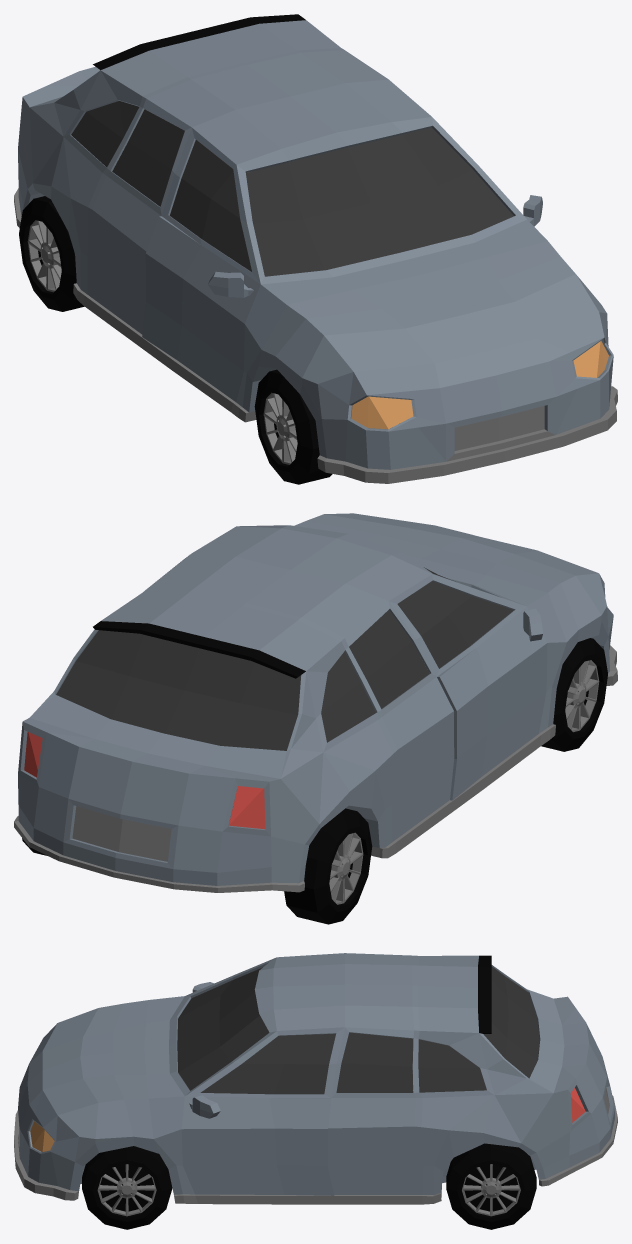
Rendered from NormalCar2.glb.
3 views of the same model, one above another, from view 1: azimuth 30°, elevation 25°; view 2: azimuth 150°, elevation 25°; view 3: azimuth 270°, elevation 25° (orthographic). The views are drawn at different scales.
Parts seen in each view (by area): view 1: NormalCar2, NormalCar2_FrontRightWheel, NormalCar2_BackWheels; view 2: NormalCar2, NormalCar2_BackWheels, NormalCar2_FrontRightWheel; view 3: NormalCar2, NormalCar2_BackWheels, NormalCar2_FrontLeftWheel.
Part boxes in pixels (x1,y1,x2,y2): NormalCar2: (14, 14, 617, 483); NormalCar2_FrontRightWheel: (254, 369, 332, 484); NormalCar2_BackWheels: (19, 196, 84, 311); NormalCar2: (14, 513, 617, 892); NormalCar2_BackWheels: (22, 808, 372, 924); NormalCar2_FrontRightWheel: (541, 638, 607, 751); NormalCar2: (14, 953, 617, 1204); NormalCar2_BackWheels: (446, 1143, 536, 1229); NormalCar2_FrontLeftWheel: (82, 1146, 172, 1229).
Size of the model in its own units: 1.64 by 1.15 by 3.31.
